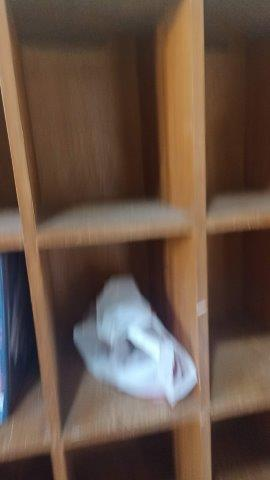plastik: (72, 274, 199, 413)
